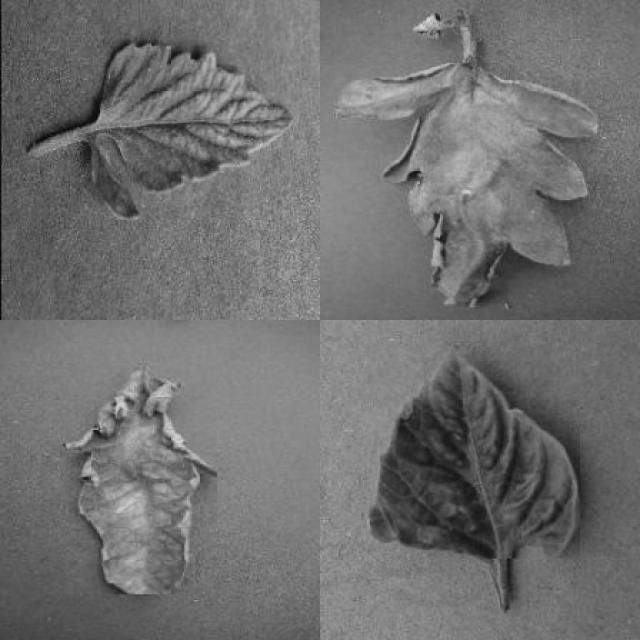Late Blight: (333, 63, 597, 308), (66, 363, 218, 594)
Mosaic Virus: (88, 46, 295, 220)
Yellow Leaf Curl Virus: (367, 347, 580, 559)
